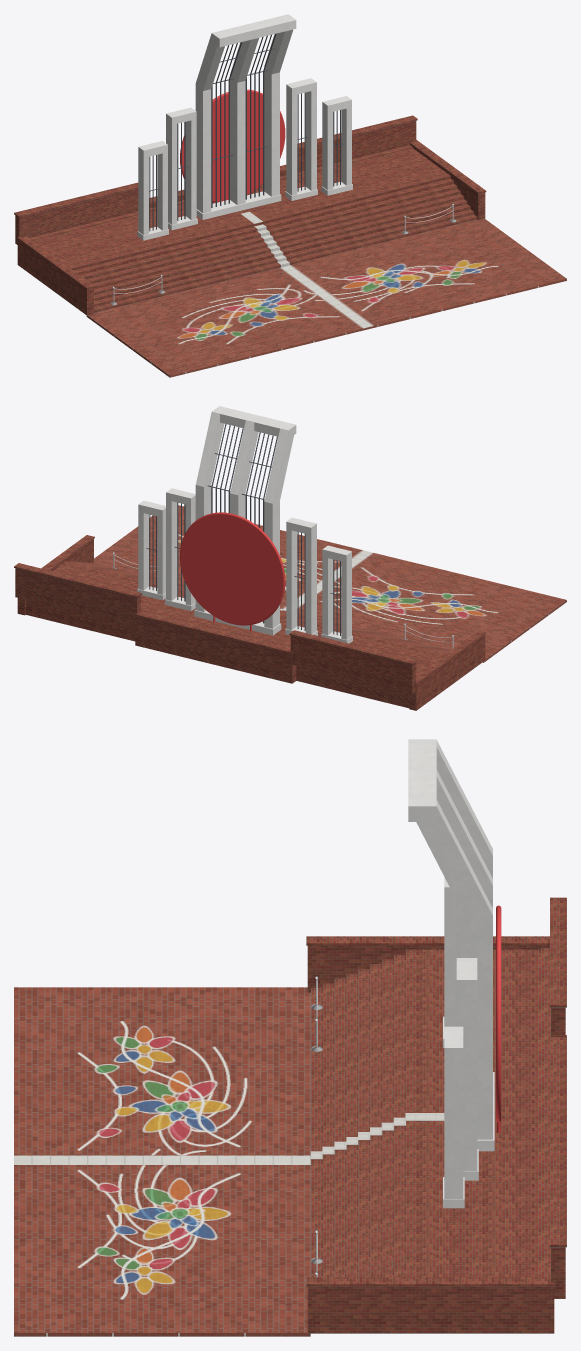
The model's file is shaheed_minar_red_sun.glb.
3 renders of one model, top to bottom at view 1: azimuth 30°, elevation 25°; view 2: azimuth 150°, elevation 25°; view 3: azimuth 270°, elevation 25°, orthographic. The views are drawn at different scales.
Parts seen in each view (by area): view 1: AlponaPlaza, BrickPlatform_And_Steps, FlankingPillars_Concrete, RearBrickWall, CenterFrame_Concrete, SunRing_Bronze, CenterFrame_MetalBars, FlankingPillars_MetalBars, WhiteCenterStrip; view 2: RearBrickWall, AlponaPlaza, FlankingPillars_Concrete, SunRing_Bronze, BrickPlatform_And_Steps, CenterFrame_Concrete, CenterFrame_MetalBars, FlankingPillars_MetalBars; view 3: AlponaPlaza, BrickPlatform_And_Steps, RearBrickWall, CenterFrame_Concrete, FlankingPillars_Concrete, SunRing_Bronze, WhiteCenterStrip.
Part boxes in pixels (box(x1,y1,x2,y2)): AlponaPlaza: box(86, 218, 566, 377); BrickPlatform_And_Steps: box(29, 145, 477, 312); FlankingPillars_Concrete: box(137, 78, 352, 240); RearBrickWall: box(14, 115, 486, 315); CenterFrame_Concrete: box(195, 14, 296, 219); SunRing_Bronze: box(180, 89, 285, 203); CenterFrame_MetalBars: box(211, 33, 276, 207); FlankingPillars_MetalBars: box(149, 92, 343, 231); WhiteCenterStrip: box(241, 211, 289, 267); RearBrickWall: box(14, 535, 486, 710); AlponaPlaza: box(94, 505, 566, 662); FlankingPillars_Concrete: box(137, 488, 352, 643); SunRing_Bronze: box(180, 512, 285, 631); BrickPlatform_And_Steps: box(25, 561, 450, 708); CenterFrame_Concrete: box(194, 406, 296, 635); CenterFrame_MetalBars: box(207, 424, 277, 623); FlankingPillars_MetalBars: box(146, 502, 341, 635); AlponaPlaza: box(14, 987, 310, 1336); BrickPlatform_And_Steps: box(311, 948, 550, 1277); RearBrickWall: box(306, 897, 566, 1333); CenterFrame_Concrete: box(408, 739, 494, 1151); FlankingPillars_Concrete: box(443, 877, 478, 1208); SunRing_Bronze: box(496, 905, 501, 1133); WhiteCenterStrip: box(310, 1113, 444, 1163).
Bounding box in the file's own units: 24.94 × 13.07 × 16.76.
7 materials, 4 textured.
